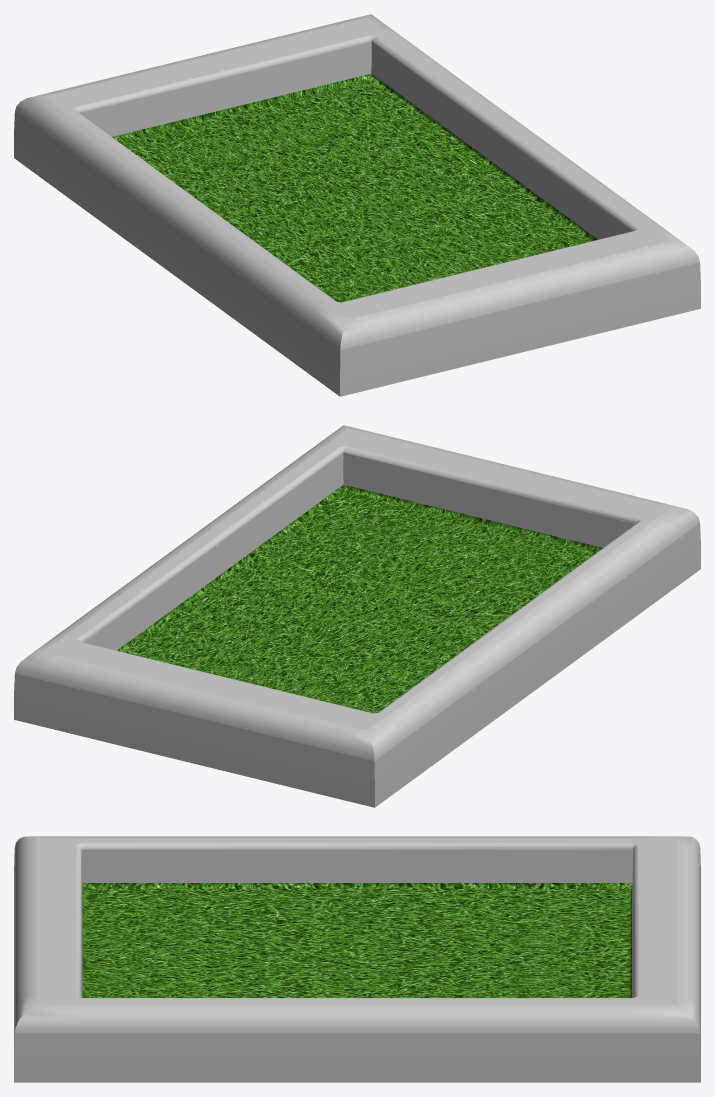
The model's file is HatBilliardsTableModel.fbx.
3 renders of one model, top to bottom at view 1: azimuth 30°, elevation 25°; view 2: azimuth 150°, elevation 25°; view 3: azimuth 270°, elevation 25°, orthographic. The views are drawn at different scales.
Visible parts, largest first — view 1: Würfel; view 2: Würfel; view 3: Würfel.
Part boxes in pixels (x1,y1,x2,y2): Würfel: [14, 14, 700, 396]; Würfel: [14, 425, 700, 807]; Würfel: [14, 836, 700, 1082].
Bounding box in the file's own units: 307 × 52.66 × 480.
Materials: 3 (1 with a texture image).
